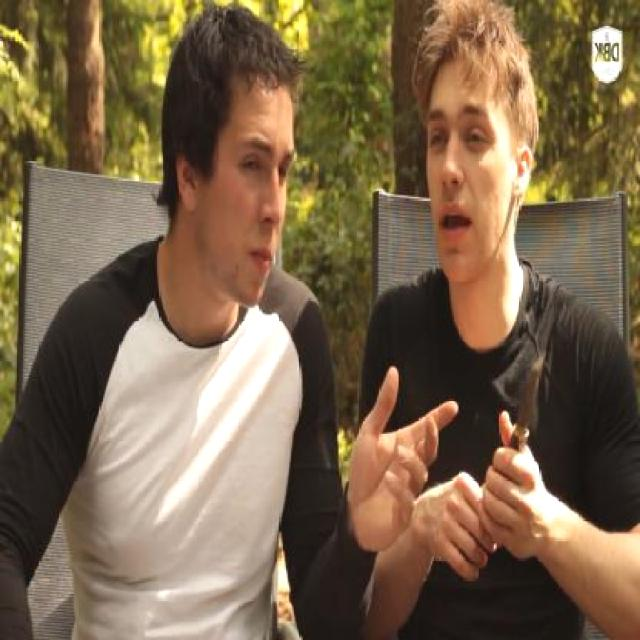knife: (482, 331, 562, 509)
